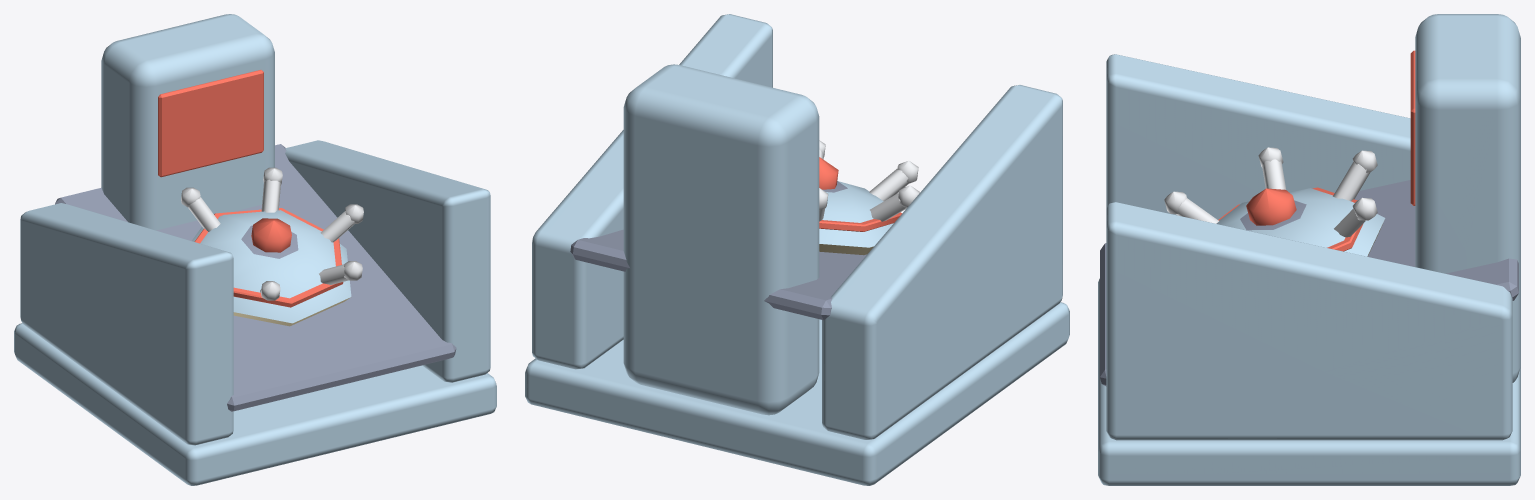
The model's file is R4X_ExplosiveTrapDeployer.fbx.
The picture shows the model from 3 angles, left to right: view 1: azimuth 30°, elevation 25°; view 2: azimuth 150°, elevation 25°; view 3: azimuth 270°, elevation 25°; orthographic projection. The views are drawn at different scales.
Visible parts, largest first — view 1: R4X_ExplosiveTrapDeployer_Body, R4X_ExplosiveTrapDeployer_Payload; view 2: R4X_ExplosiveTrapDeployer_Body, R4X_ExplosiveTrapDeployer_Payload; view 3: R4X_ExplosiveTrapDeployer_Body, R4X_ExplosiveTrapDeployer_Payload.
Boxes of the visible parts, bbox=[...] form: R4X_ExplosiveTrapDeployer_Body: bbox=[14, 14, 496, 485]; R4X_ExplosiveTrapDeployer_Payload: bbox=[181, 167, 363, 326]; R4X_ExplosiveTrapDeployer_Body: bbox=[525, 14, 1069, 485]; R4X_ExplosiveTrapDeployer_Payload: bbox=[819, 140, 919, 255]; R4X_ExplosiveTrapDeployer_Body: bbox=[1098, 14, 1520, 485]; R4X_ExplosiveTrapDeployer_Payload: bbox=[1164, 147, 1385, 256].
Bounding box in the file's own units: 0.52 × 0.48 × 0.52.
